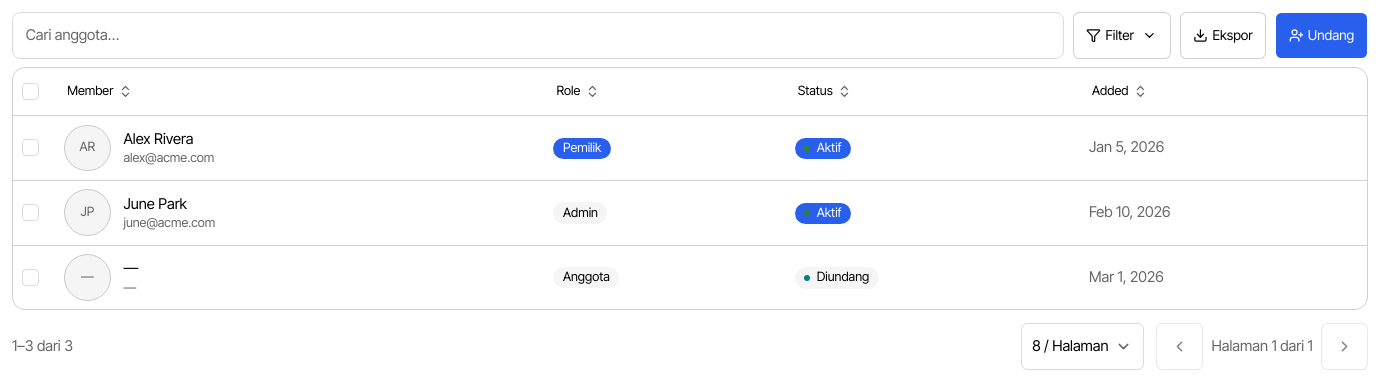
MembersTable › filters rows by search query
In the search field with placeholder "Cari anggota…": (538, 35) [12,12,1064,59], type "June"
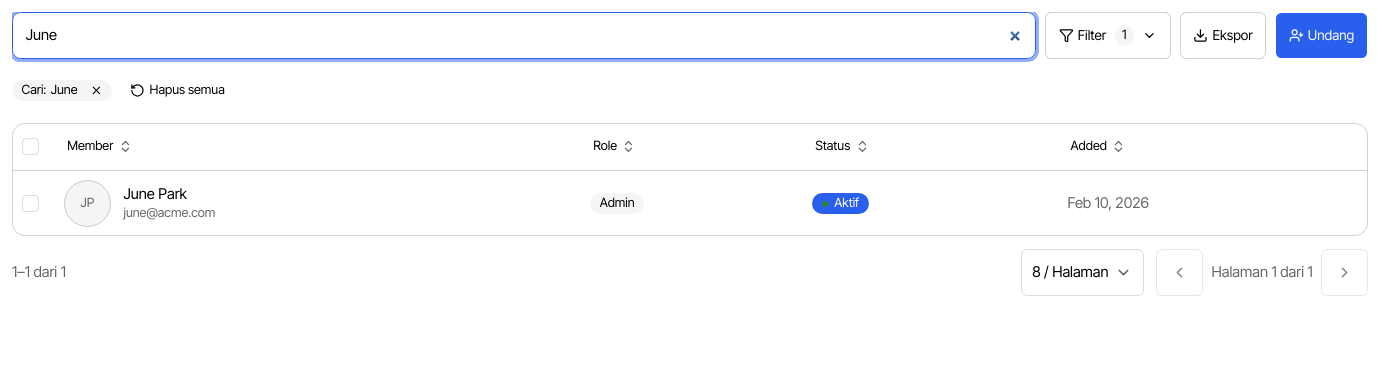
Expected: the text "June Park" is shown, [124,185,187,203]
Expected: the text "Alex Rivera" is gone
